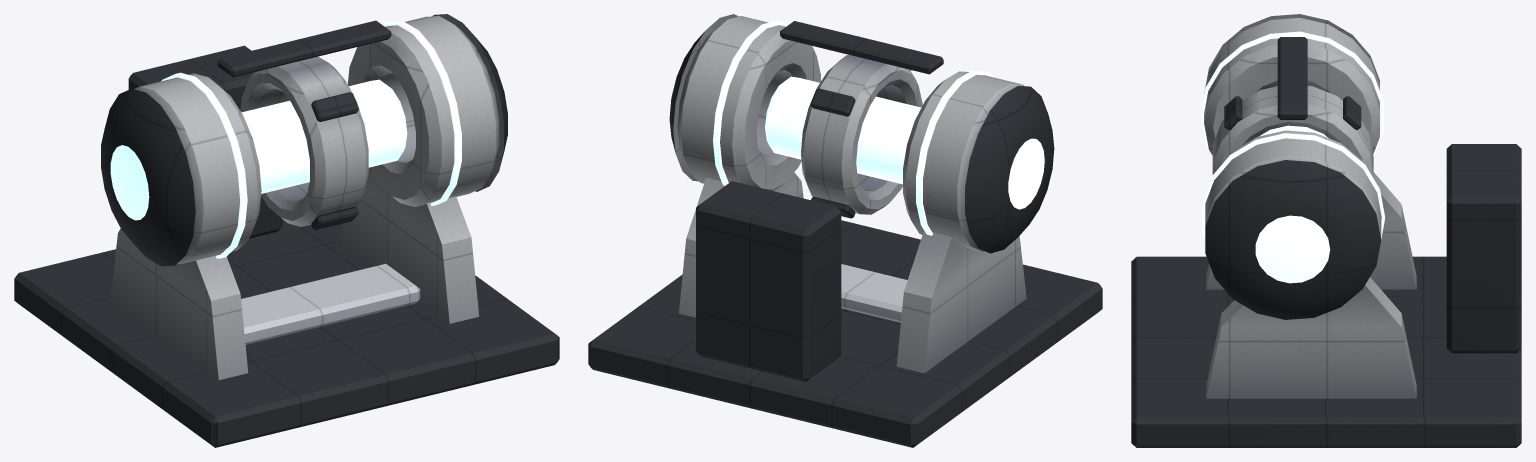
File: R4X_Battery_LOD1.glb
3 views of the same model, side by side, from view 1: azimuth 30°, elevation 25°; view 2: azimuth 150°, elevation 25°; view 3: azimuth 270°, elevation 25° (orthographic). The views are drawn at different scales.
Visible parts, largest first — view 1: R4X_Battery_LOD1; view 2: R4X_Battery_LOD1; view 3: R4X_Battery_LOD1.
Part boxes in pixels (x1=…): R4X_Battery_LOD1: x1=14, y1=14, x2=559, y2=447; R4X_Battery_LOD1: x1=588, y1=14, x2=1102, y2=447; R4X_Battery_LOD1: x1=1131, y1=14, x2=1521, y2=447.
Size of the model in its own units: 0.52 by 0.432 by 0.52.
Materials: 4 (3 with a texture image).
